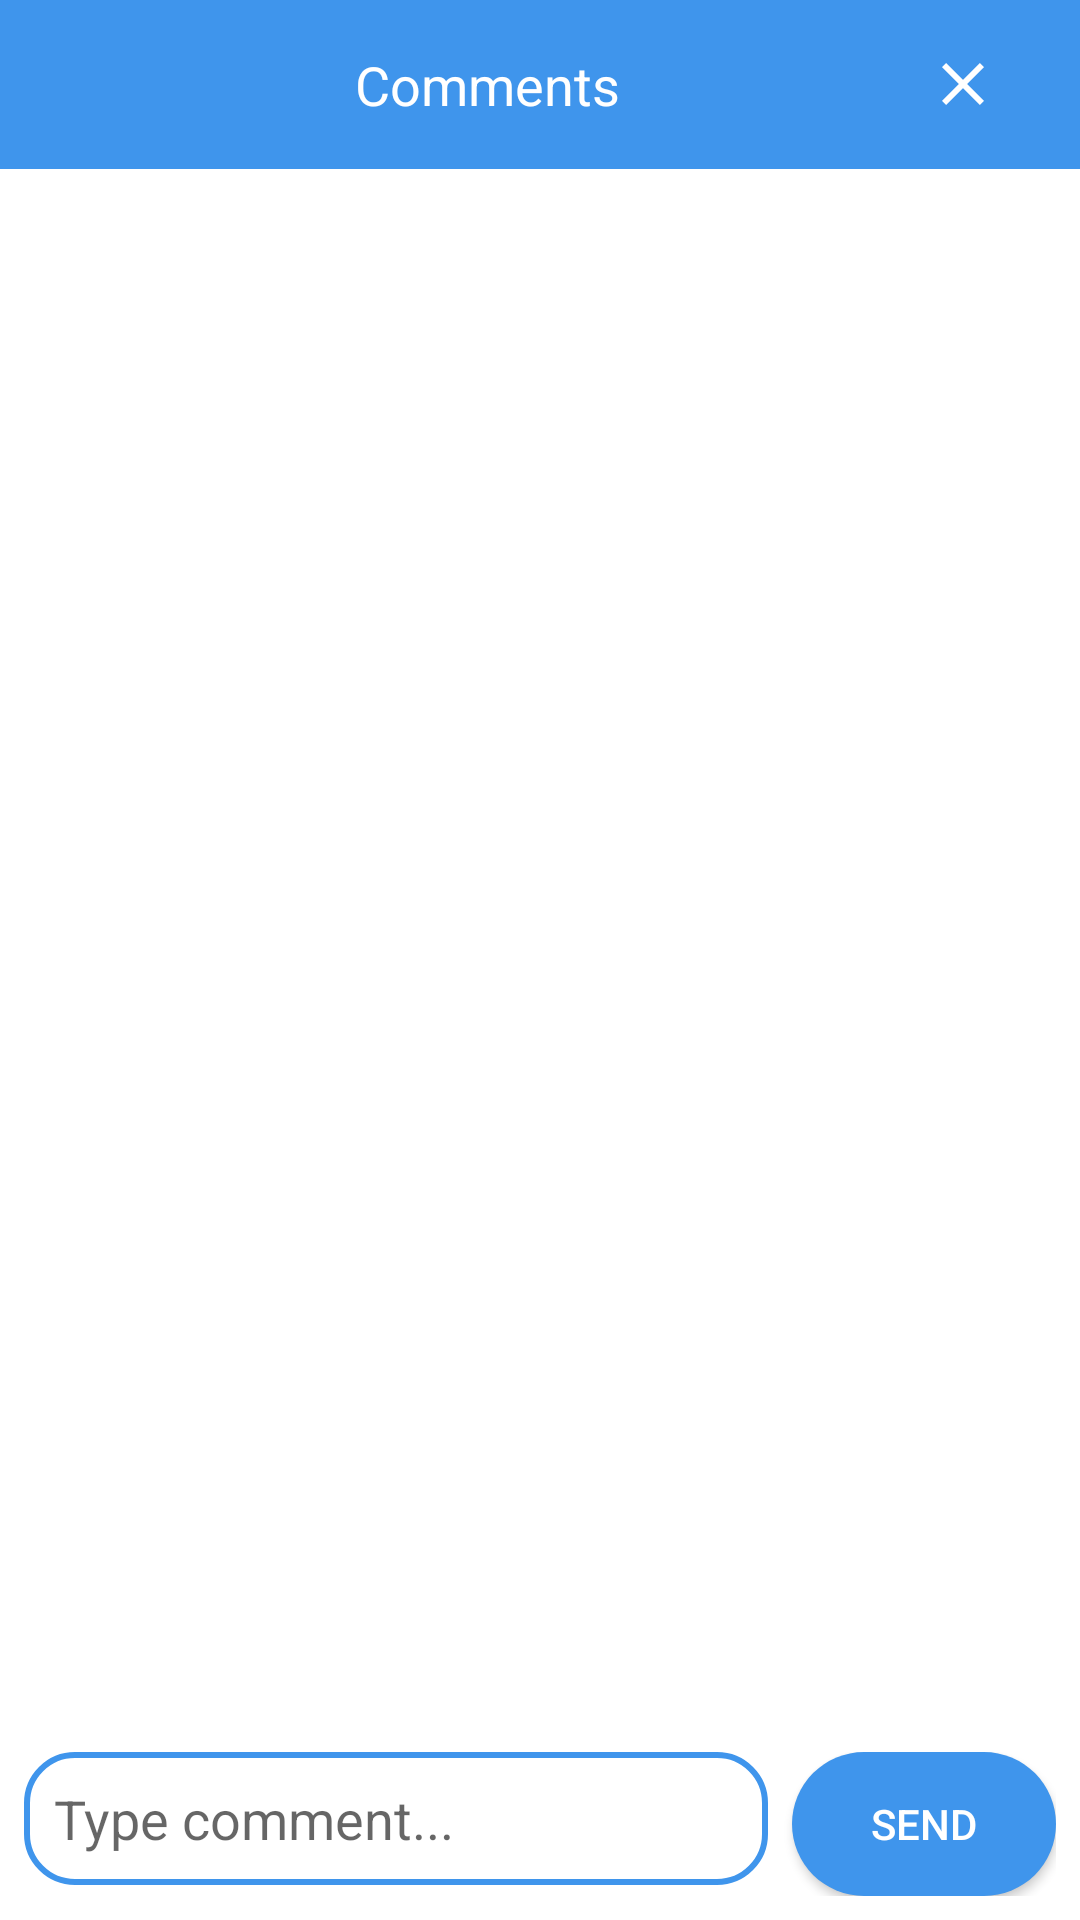

Where to tap for icons on this 1080px×1920px app screen, as [x,y]:
Close: [963,84]
